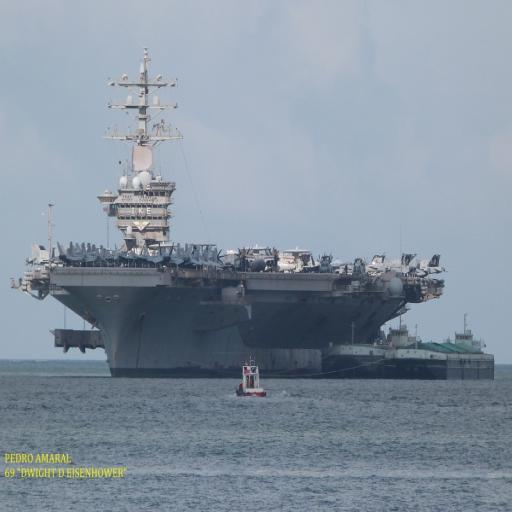Portanaves: (11, 52, 447, 393)
